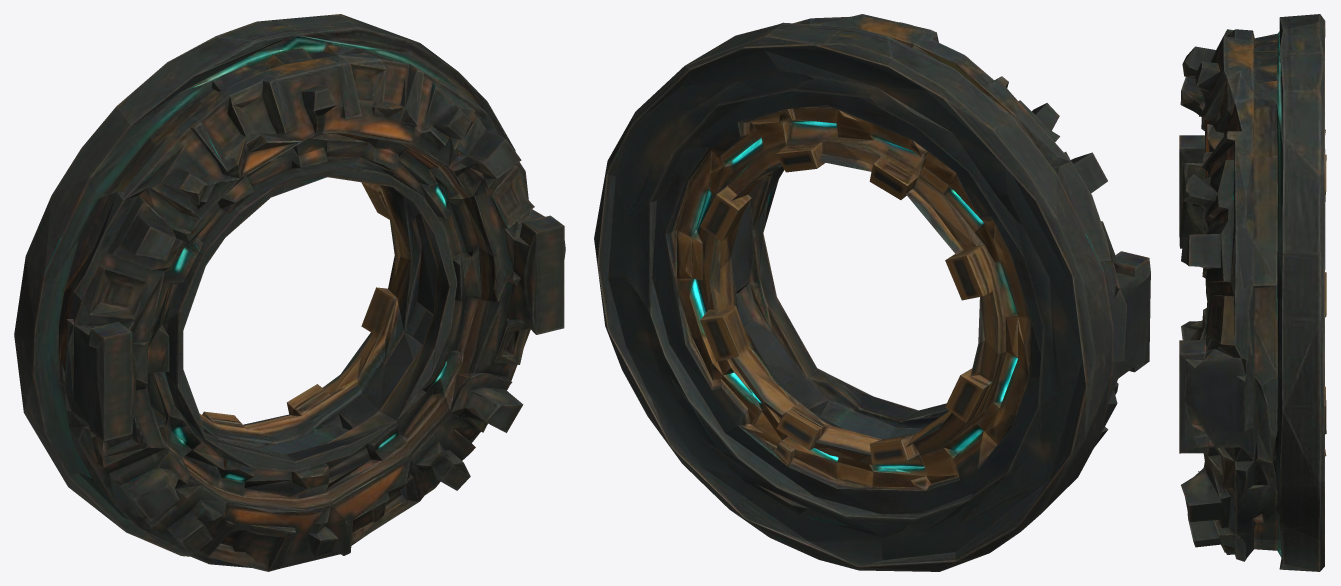
Rendered from star-gate.glb.
3 renders of one model, left to right at view 1: azimuth 30°, elevation 25°; view 2: azimuth 150°, elevation 25°; view 3: azimuth 270°, elevation 25°, orthographic. The views are drawn at different scales.
Size of the model in its own units: 1.9 by 1.9 by 0.5006.
Materials: 1 (1 with a texture image).
